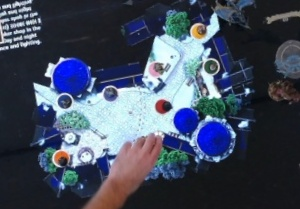blue: (51, 88, 76, 111)
green: (200, 52, 224, 76)
orange: (48, 146, 72, 169)
pink: (144, 57, 169, 79)
red: (150, 95, 175, 118)
violet: (97, 82, 119, 105)
yellow: (183, 19, 209, 43)
